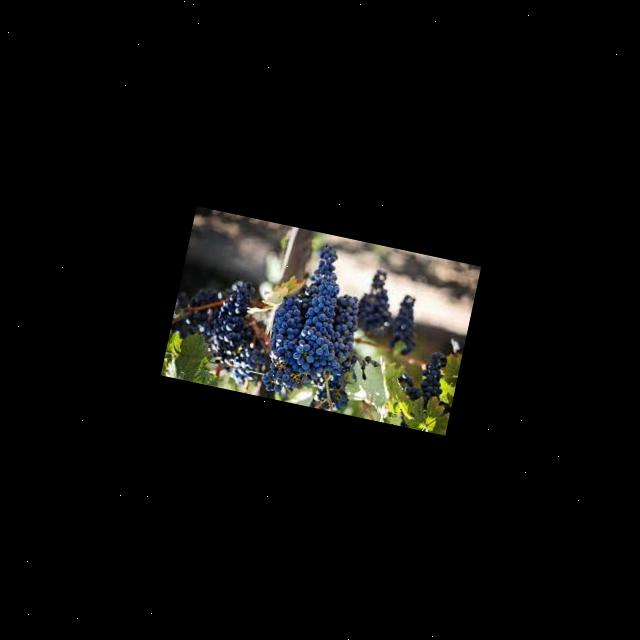grape: (264, 245, 358, 379), (393, 344, 450, 406)
